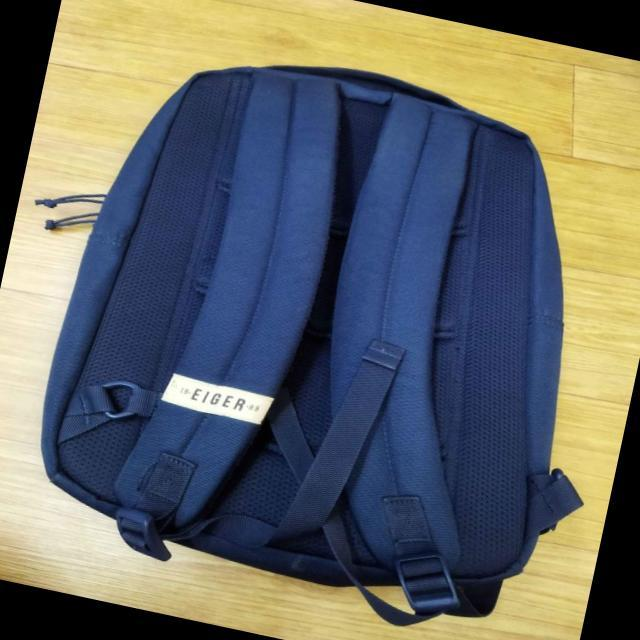bag: (45, 70, 557, 598)
